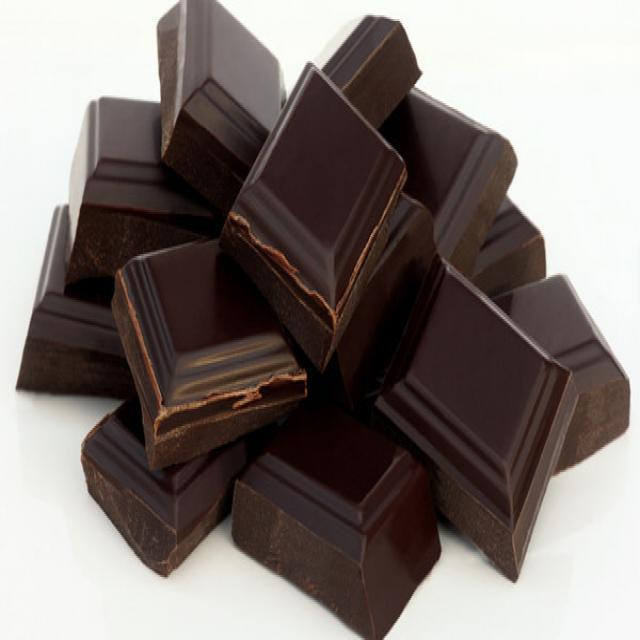Chocolate bar packaged: (380, 250, 578, 580), (223, 59, 407, 373), (231, 405, 445, 638), (481, 266, 633, 474), (377, 78, 518, 280), (149, 4, 290, 193)
